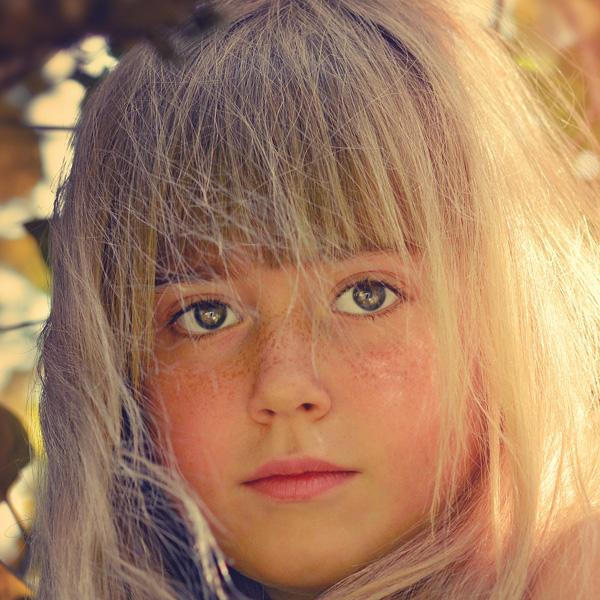Eyes: (316, 265, 418, 328), (158, 286, 254, 351)
